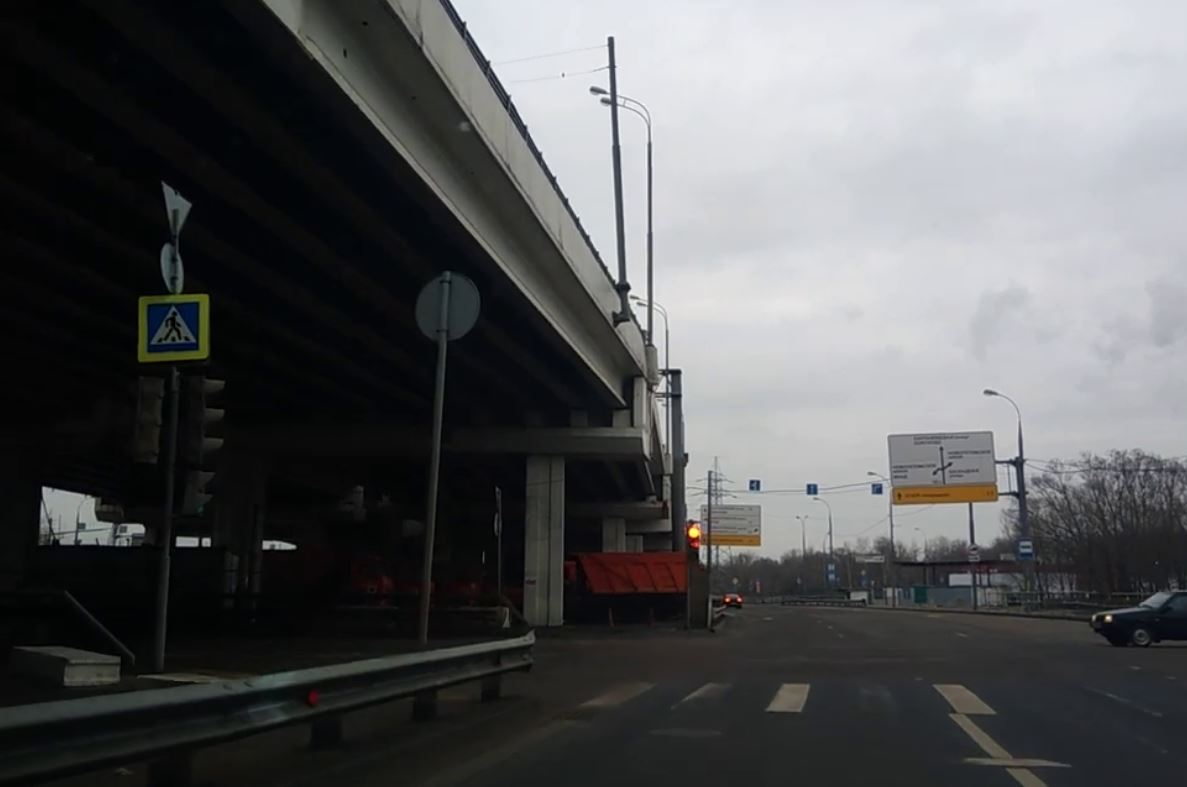Yaya Gecidi: (144, 305, 203, 355)
